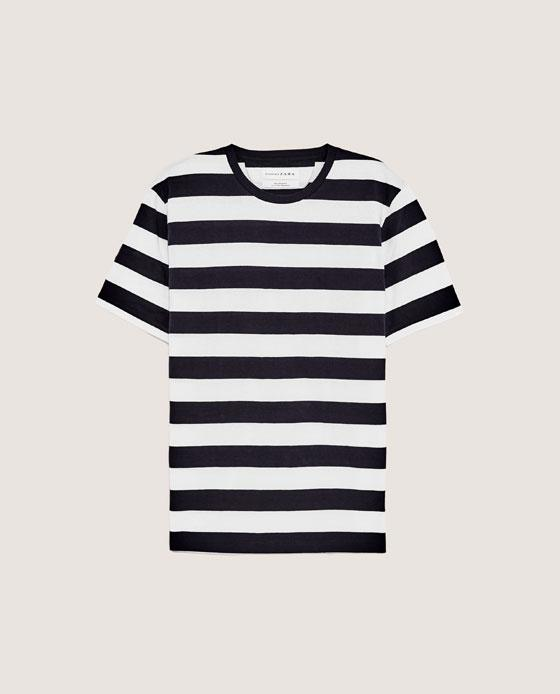teeshirt: (93, 131, 478, 620)
